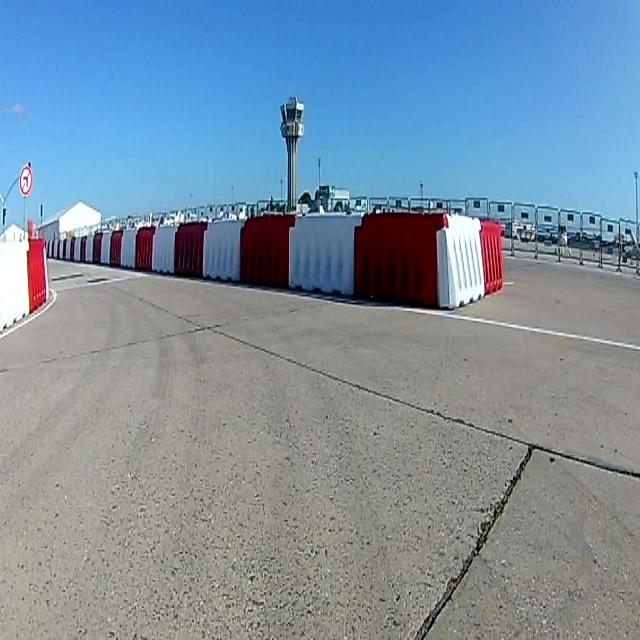soladonulmez: (19, 166, 33, 196)
